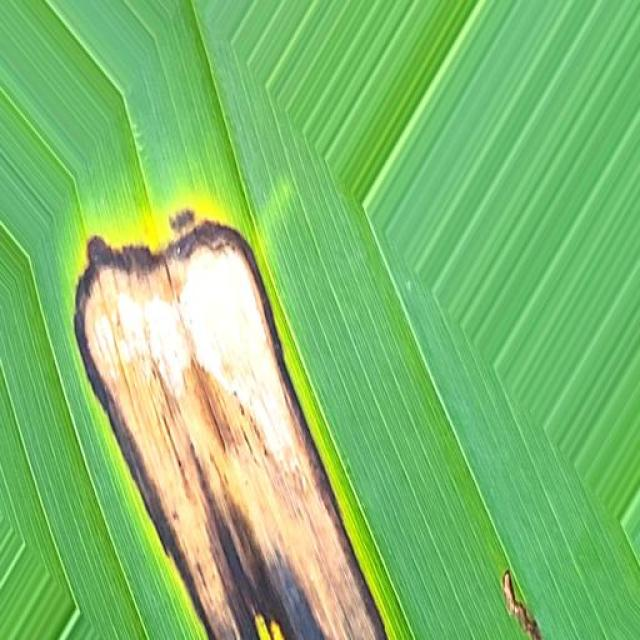Early_rust: (31, 176, 389, 640), (466, 533, 559, 640)
